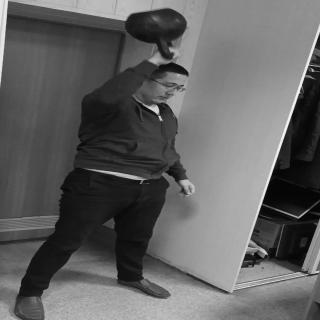girya: (128, 9, 188, 61)
